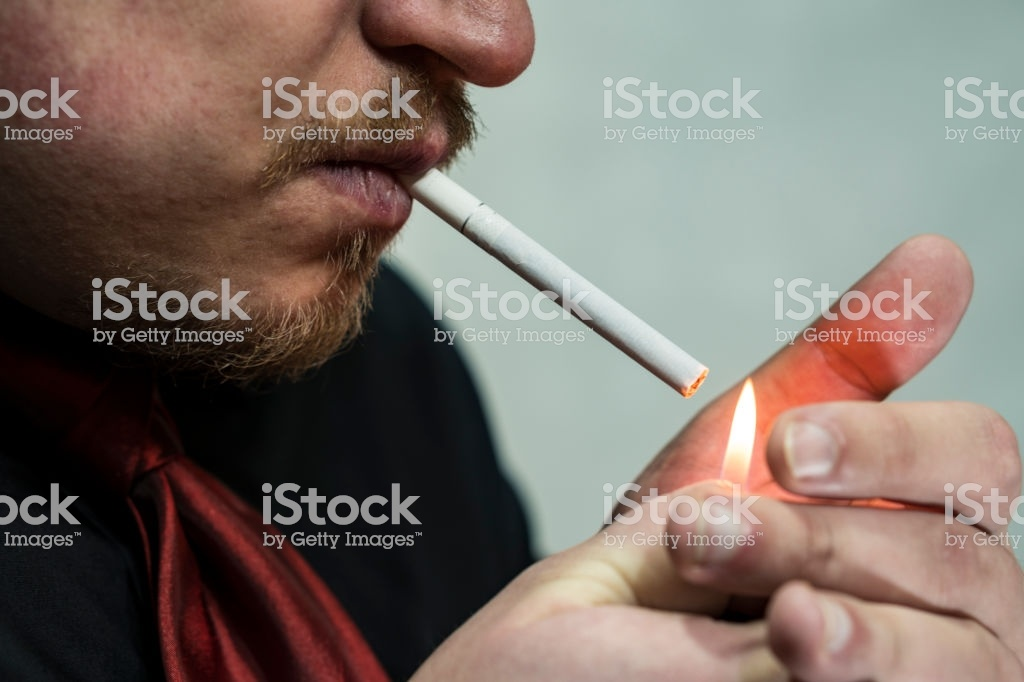sigaretta: (400, 169, 702, 394)
